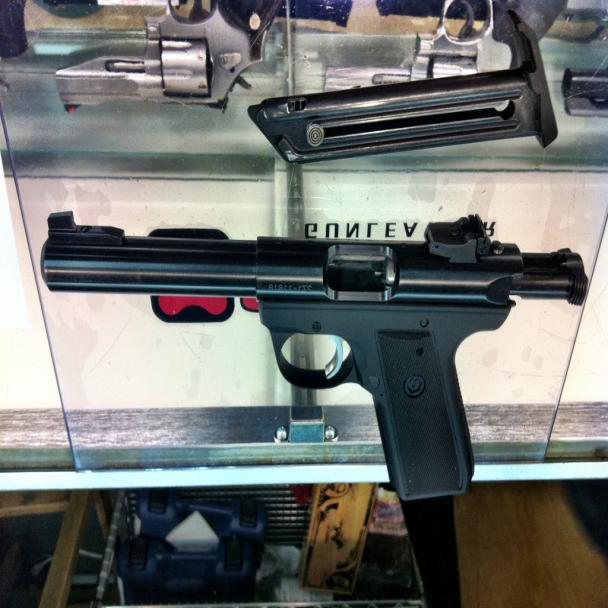Gun: (35, 205, 595, 517)
